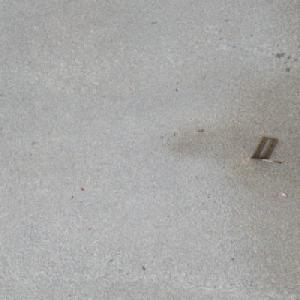MetalPart: (248, 135, 283, 163)
